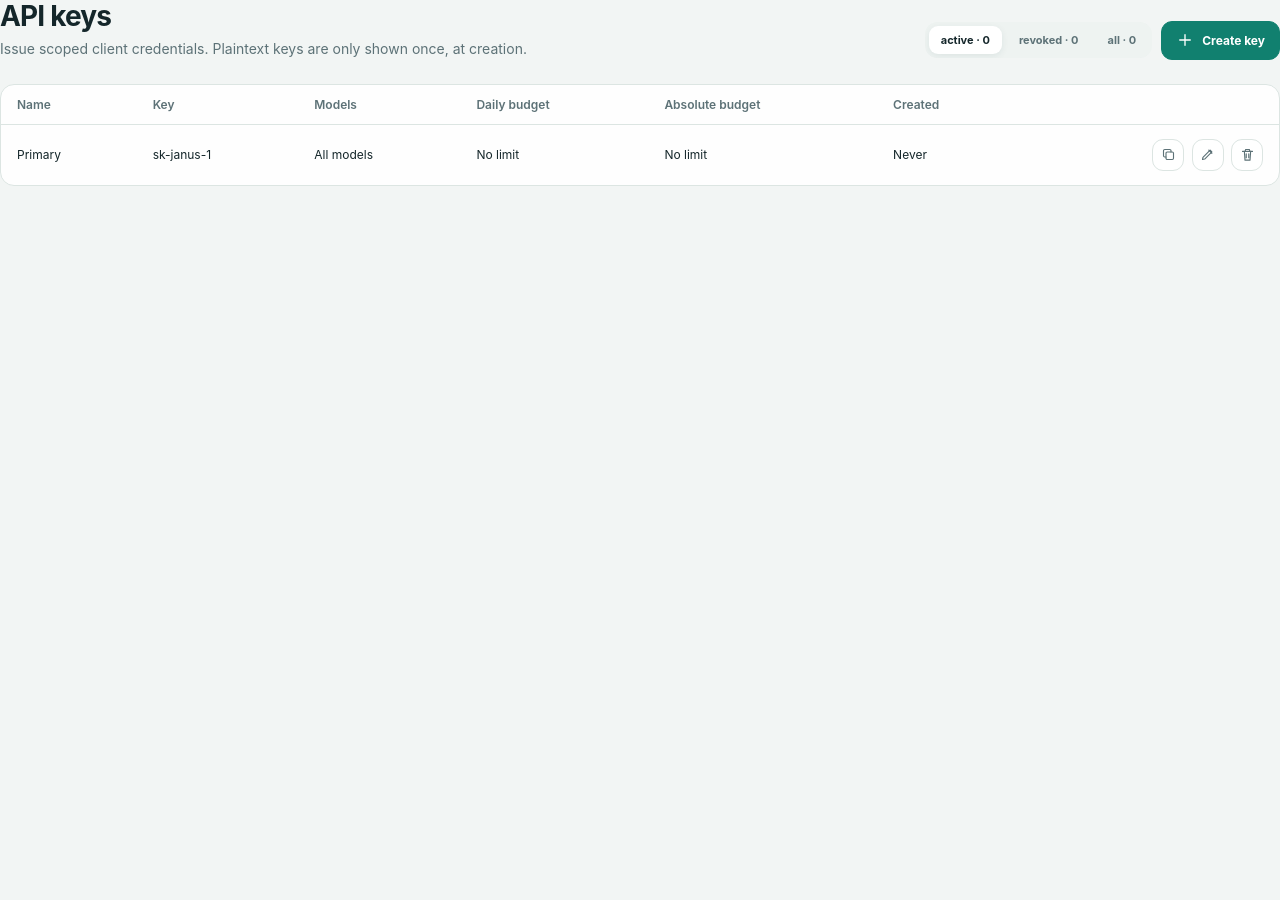
Test: KeysPage create key › ignores a second submit while the create request is in flight
The width and height of the screenshot is (1280, 900).
Click the button "Create key": (1221, 40) [1161,21,1279,60]
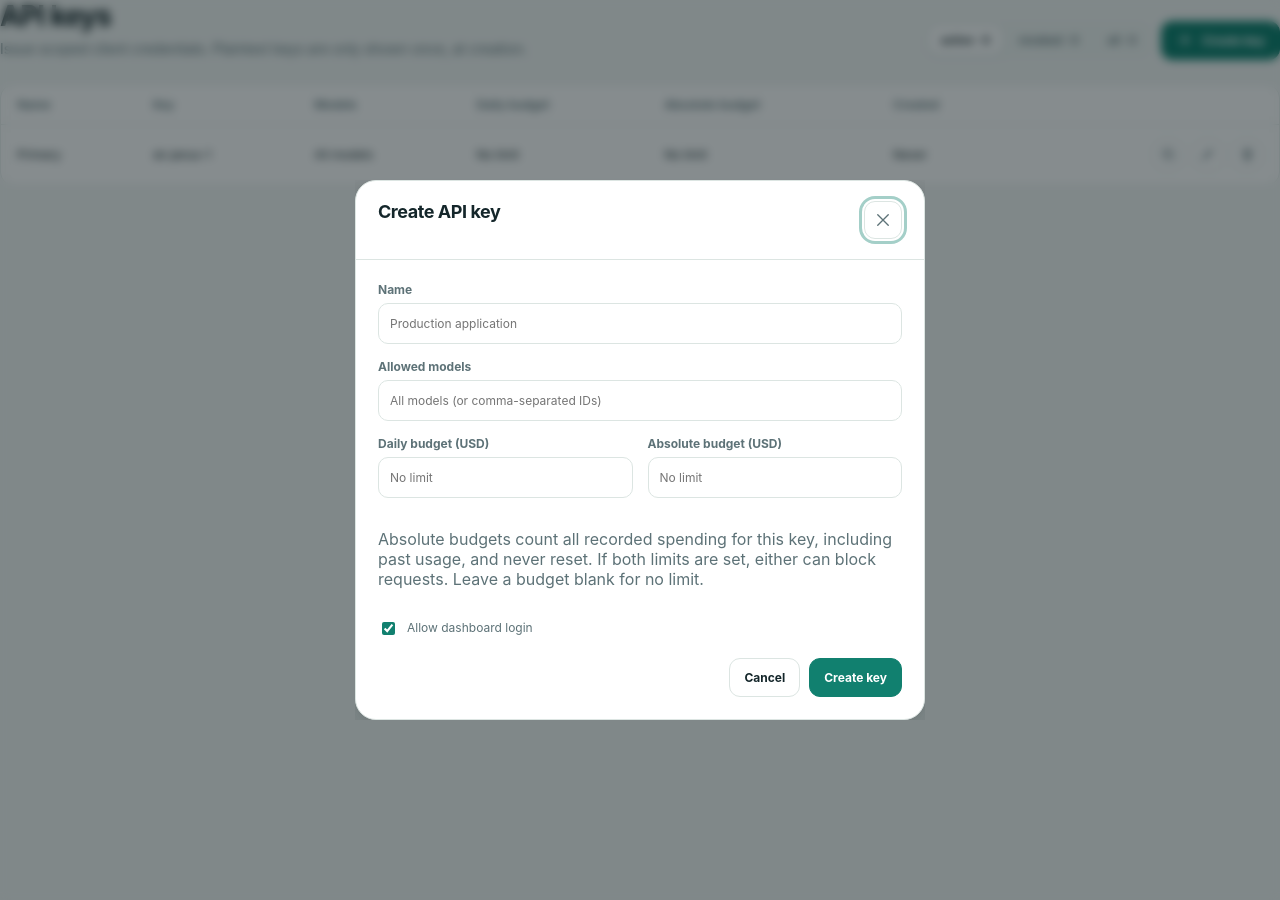
In the field labelled "Name": (640, 324) [378,303,902,344], type "CI key"
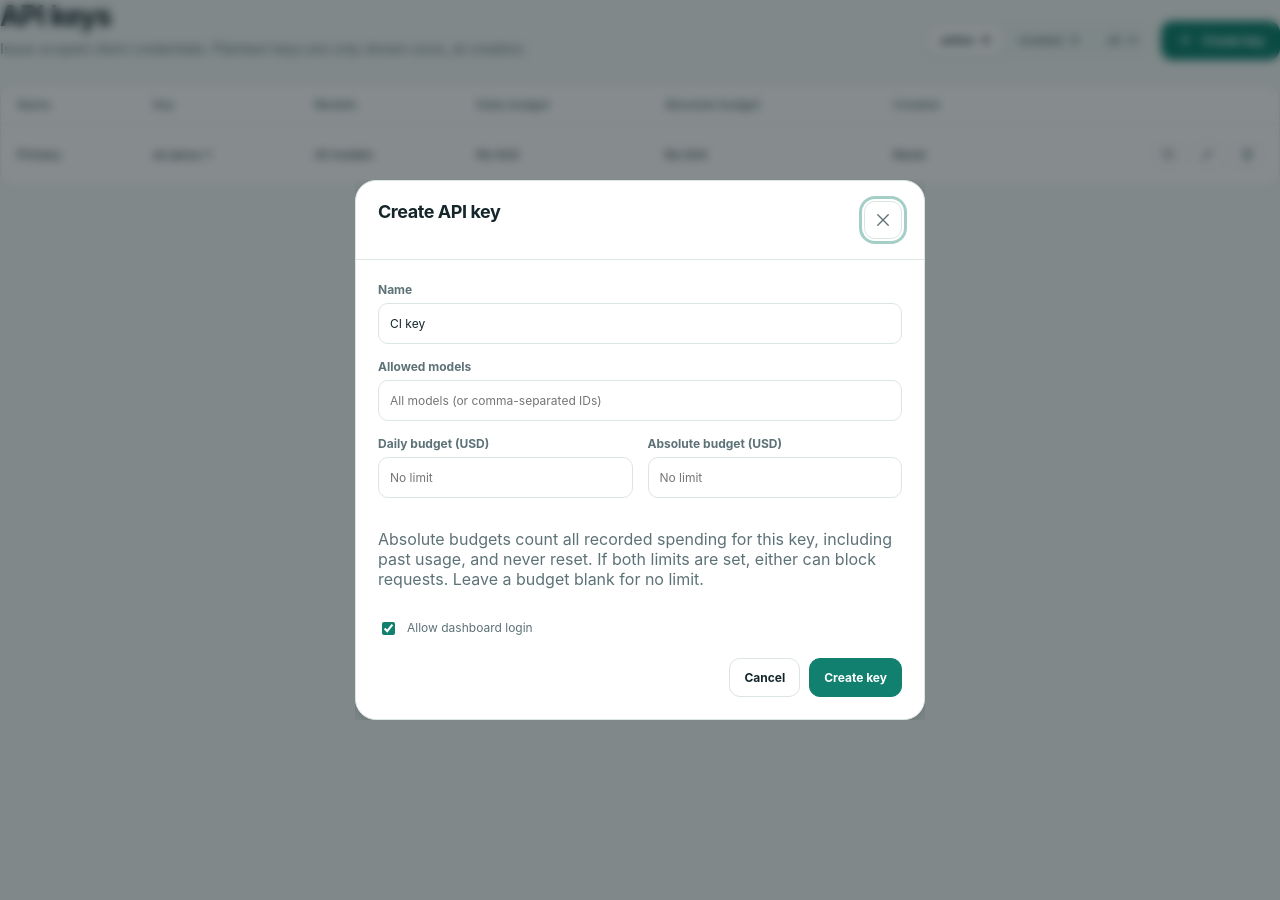
Click the button "Create key": (856, 678) [809,658,902,697]
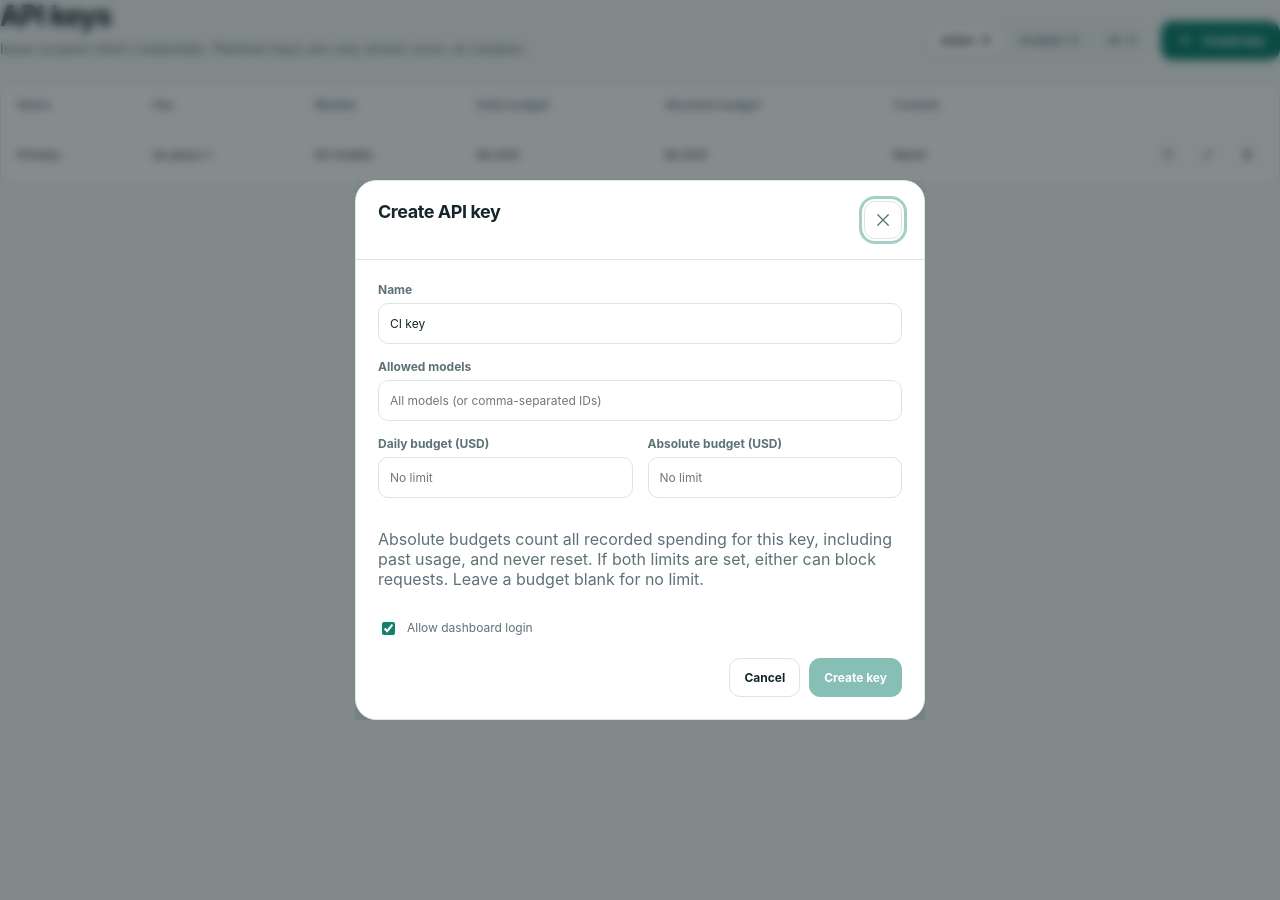
Result: the button "Create key" is disabled
Click the button "Create key": (856, 678) [809,658,902,697]
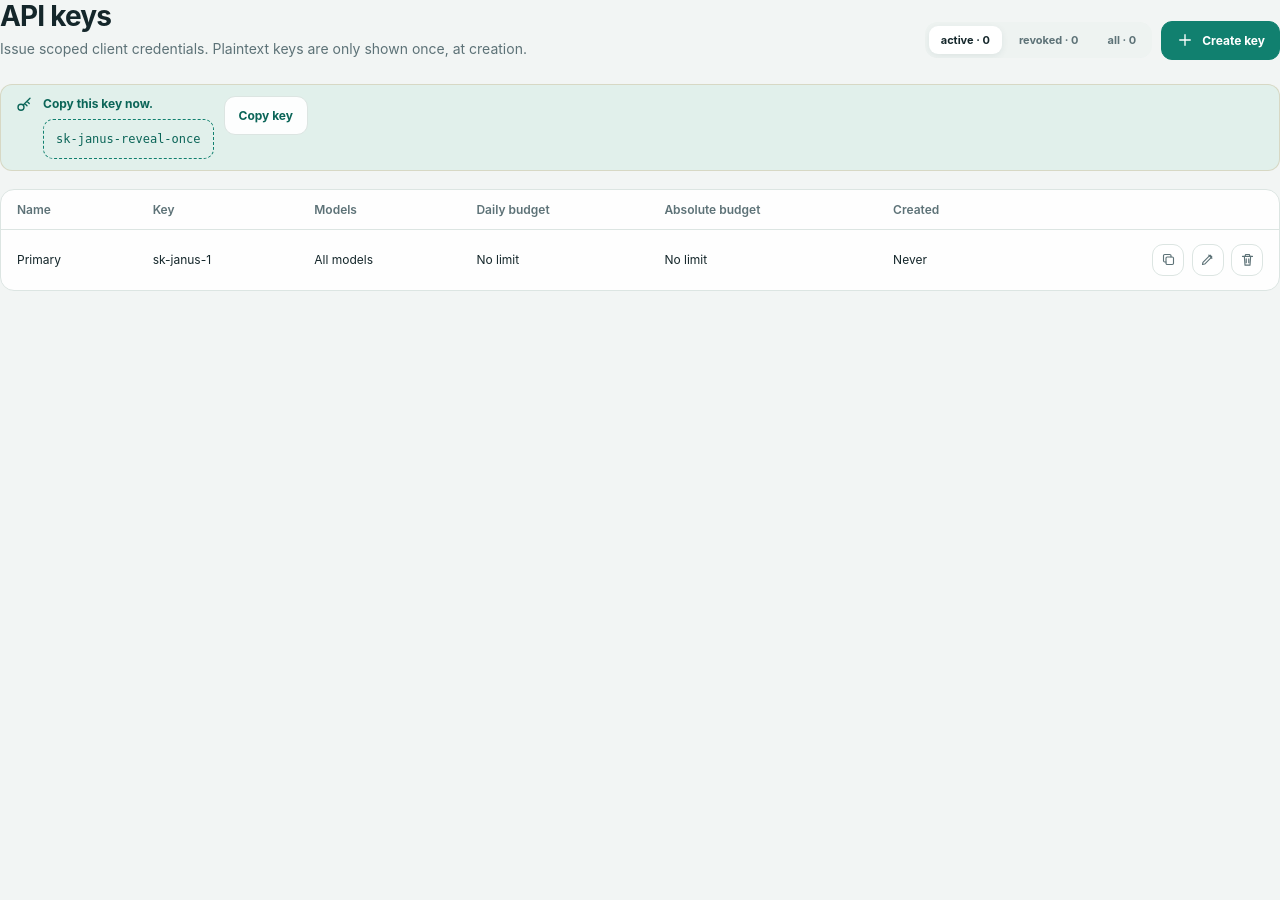
Result: the text "sk-janus-reveal-once" is shown at [43,119,214,159]
